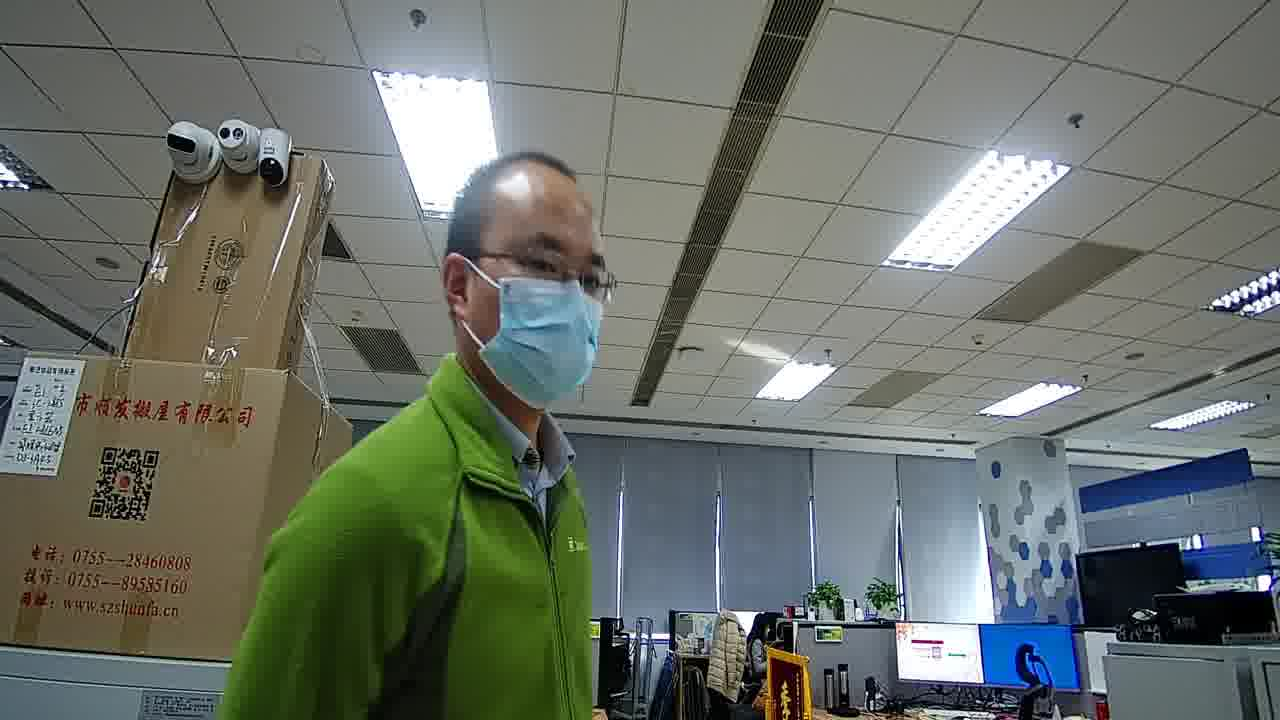face: (472, 177, 608, 416)
mask: (476, 269, 599, 412)
person: (295, 139, 619, 554)
